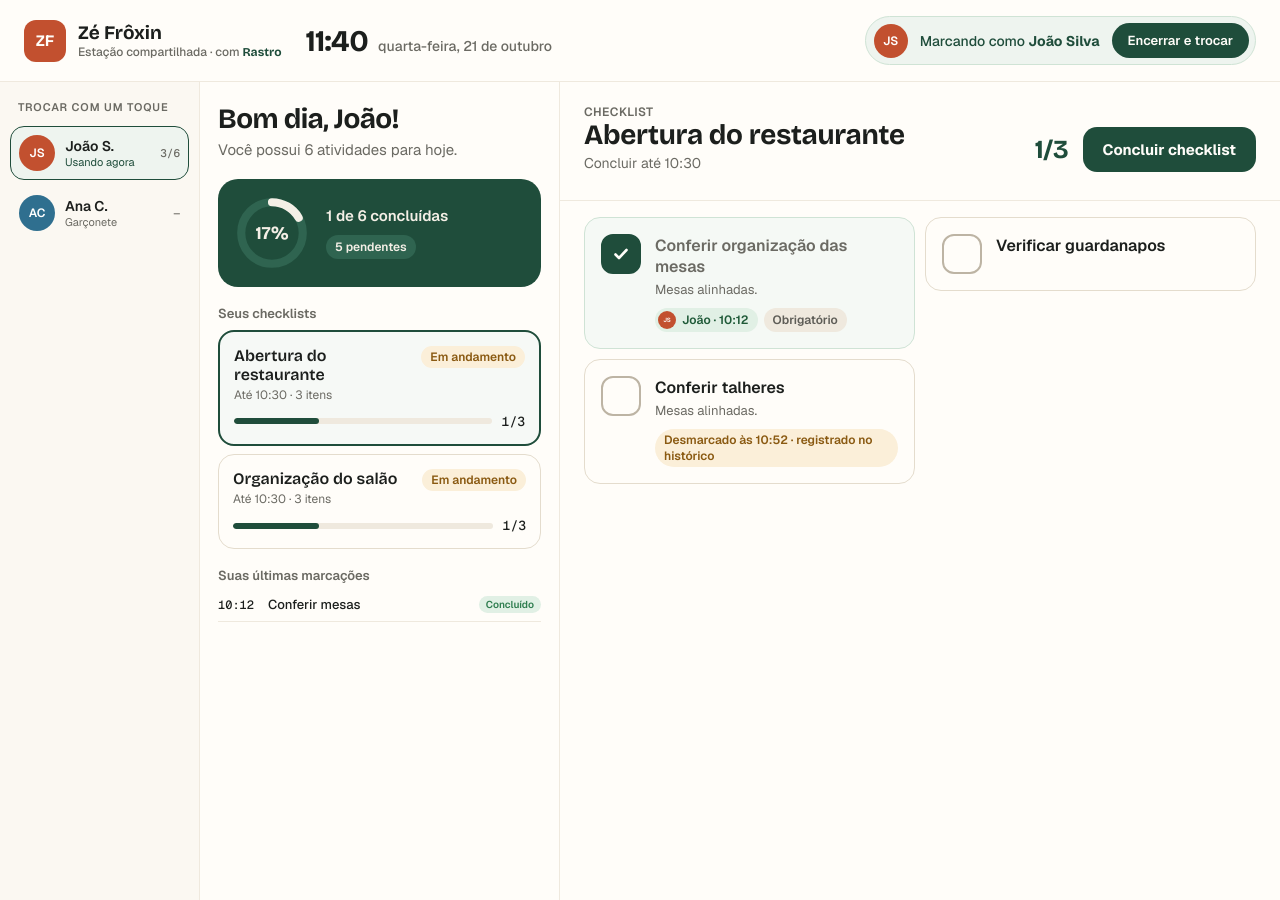
Test: US10 — estação de trabalho › "Encerrar e trocar" encerra a sessão e volta à grade (sucesso)
This screenshot has width=1280, height=900.
Click the button "Encerrar e trocar" at (1180, 40), box [1112,23,1249,58]
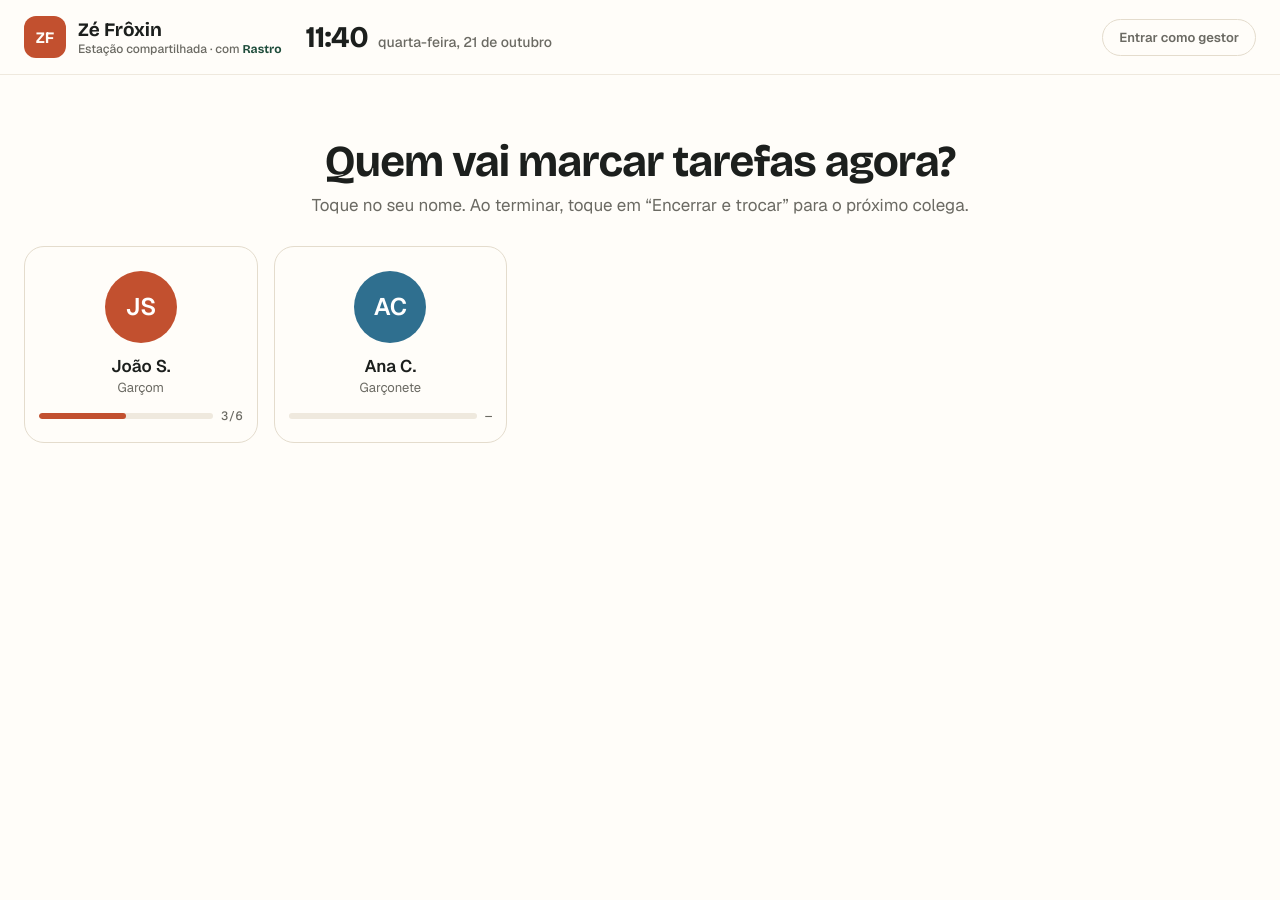
Check: the heading "Quem vai marcar tarefas agora?" is shown, box [312,139,968,185]
